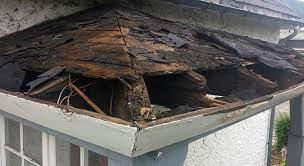sagging_roof: (2, 4, 304, 125)
